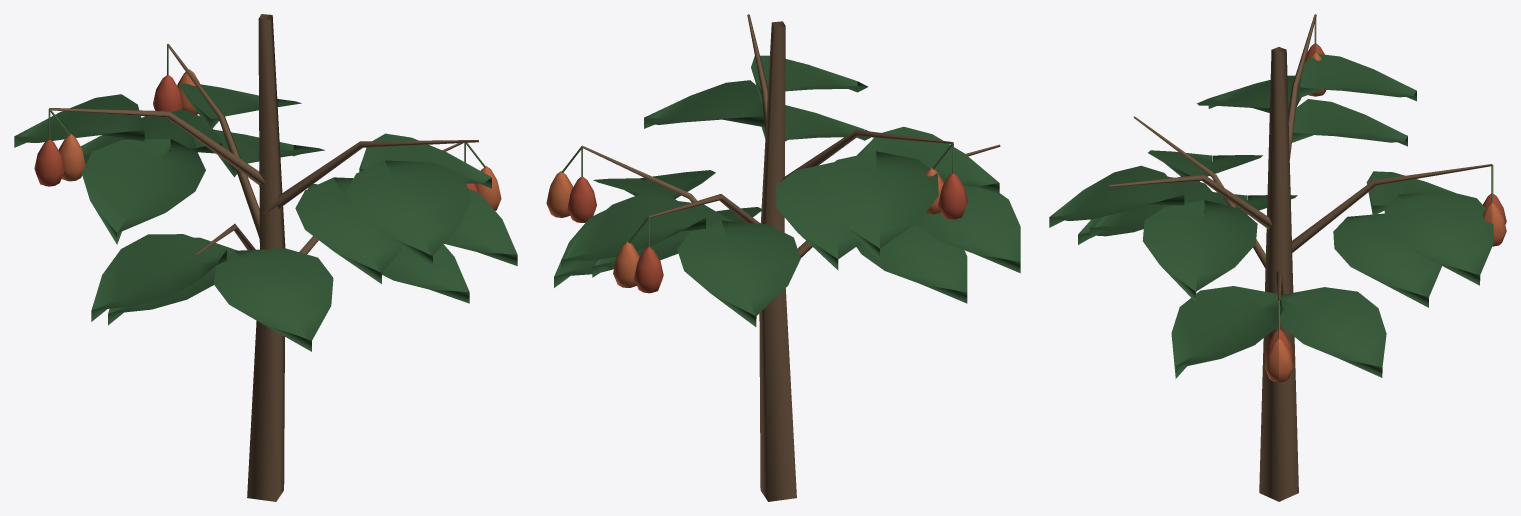
File: tomate_de_arbol.glb
3 views of the same model, side by side, from view 1: azimuth 30°, elevation 25°; view 2: azimuth 150°, elevation 25°; view 3: azimuth 270°, elevation 25° (orthographic). The views are drawn at different scales.
Visible parts, largest first — view 1: tomate_de_arbol; view 2: tomate_de_arbol; view 3: tomate_de_arbol.
Boxes of the visible parts, box(x1,y1,x2,y2) form: tomate_de_arbol: box(14, 14, 517, 501); tomate_de_arbol: box(546, 14, 1020, 501); tomate_de_arbol: box(1049, 14, 1506, 501).
Bounding box in the file's own units: 1.56 × 1.6 × 1.5.
